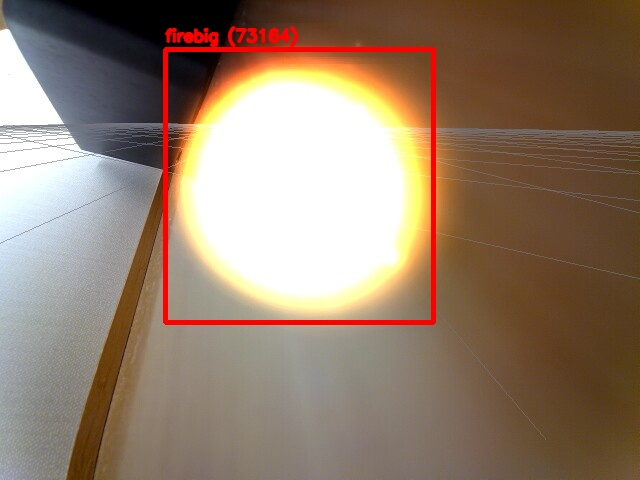firebig: (165, 49, 433, 322)
